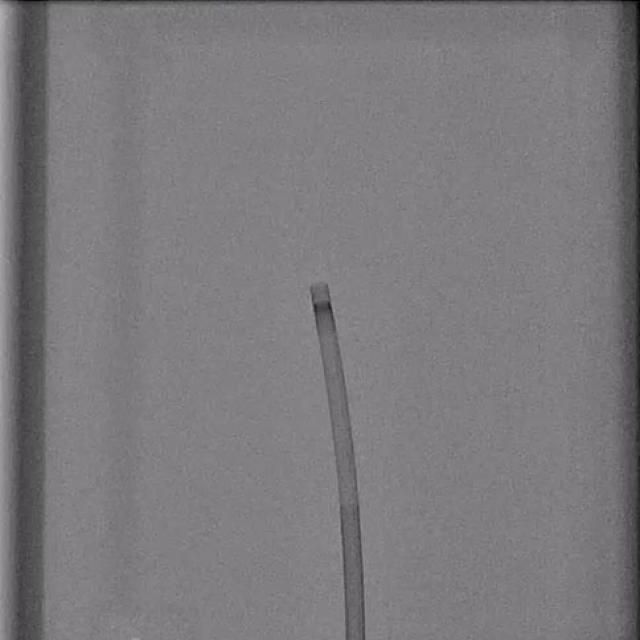bend: (339, 491, 359, 506)
entry: (345, 635, 364, 640)
marker: (314, 300, 331, 314)
tip: (310, 282, 327, 290)
